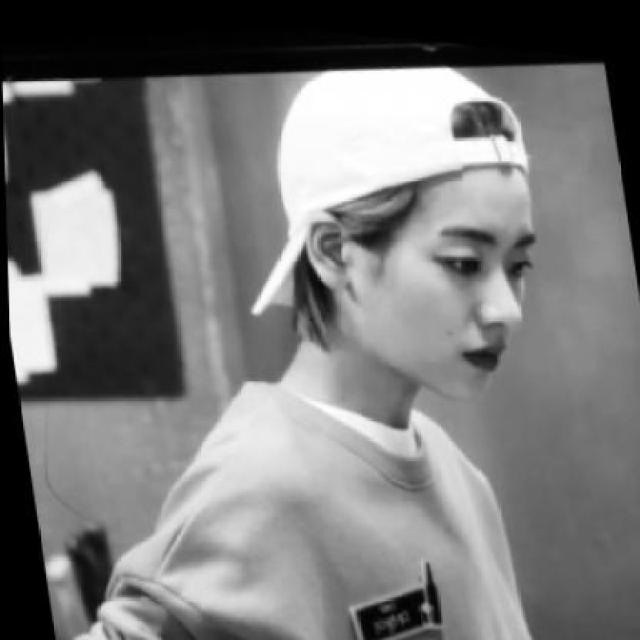hat: (248, 58, 526, 311)
